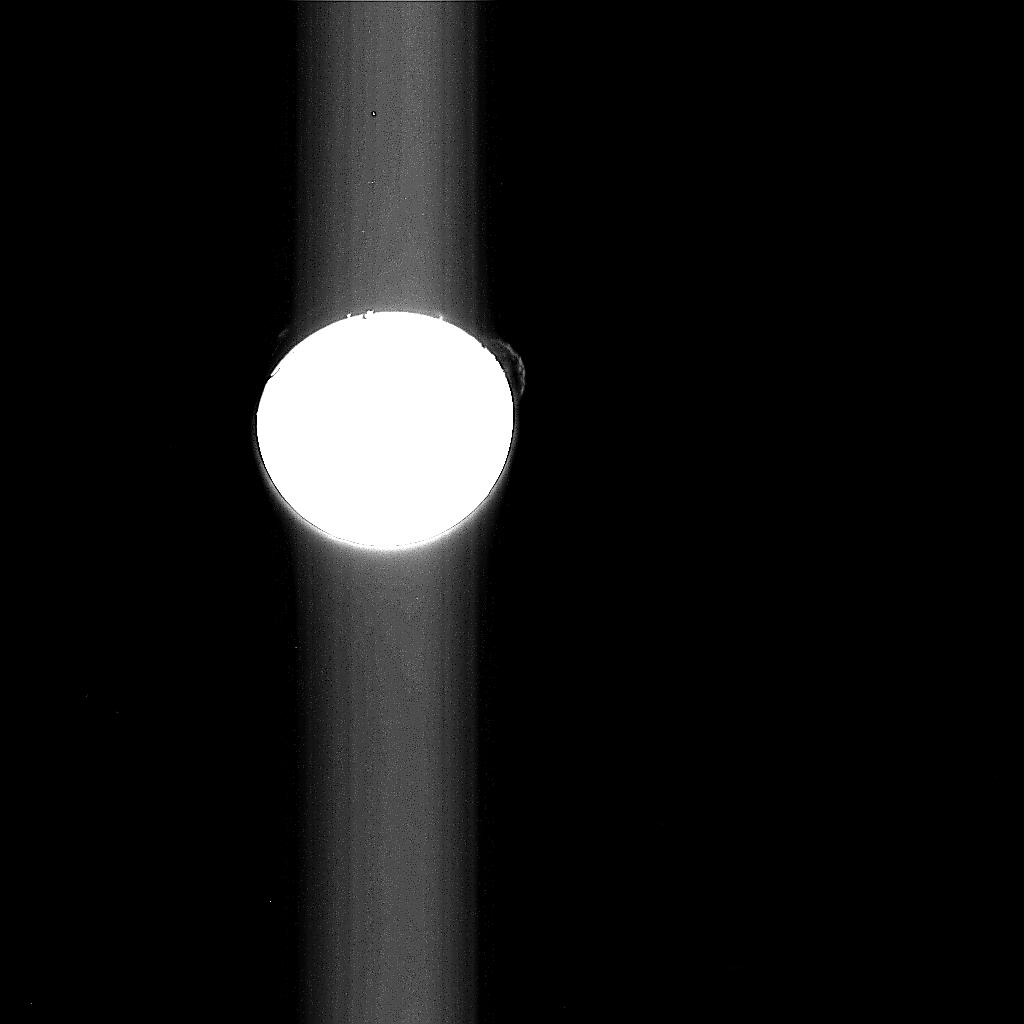plumes: (479, 335, 525, 406), (435, 310, 446, 323), (345, 309, 353, 321)
